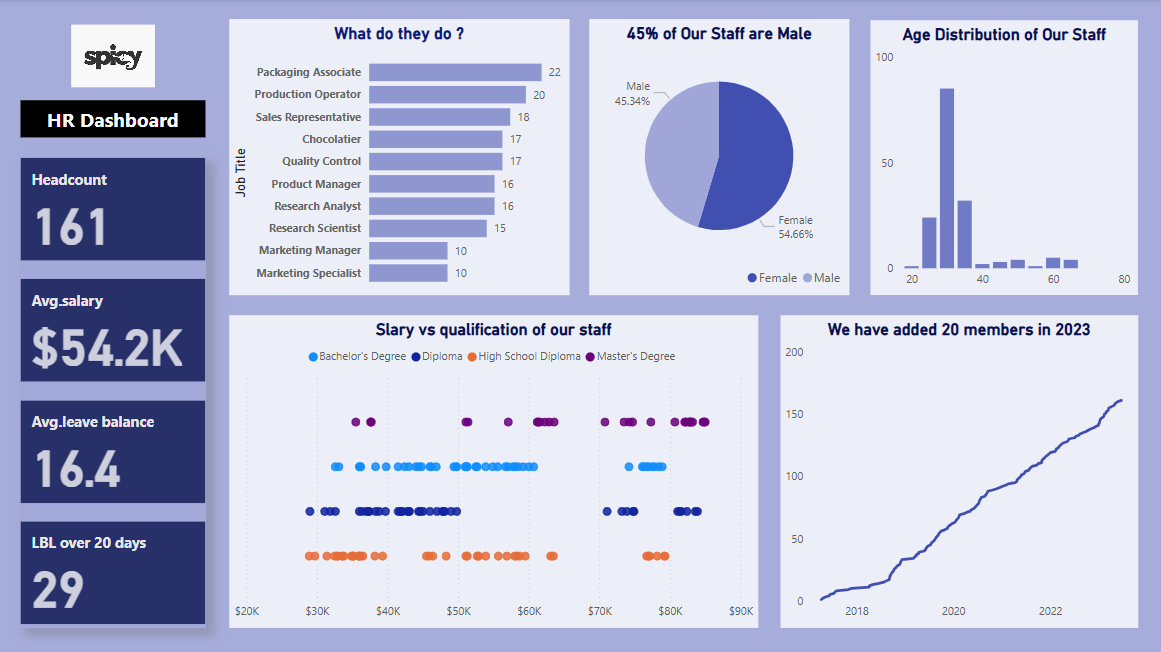

The page's visual inventory and layout, read from the dashboard file:
{"tool":"powerbi","page":{"name":"Page 9","canvas":[1280,720],"ordinal":8},"visuals":[{"type":"cardVisual","fields":{"Data":["staff.Headcount","staff.Avg.salary","staff.Avg.leave balance","staff.LBL over 20 days"]},"box":[24.7,174.3,203.1,516],"z":0},{"type":"clusteredBarChart","title":"What do they do ?","fields":{"Category":["staff.Job Title"],"Y":["staff.Headcount"]},"box":[253.9,22,373.2,303.3],"z":1000},{"type":"pieChart","title":"45% of Our Staff are Male","fields":{"Category":["staff.Gender"],"Y":["staff.Headcount"]},"box":[649.1,22,285.4,303.3],"z":2000},{"type":"columnChart","title":"Age Distribution of Our Staff","fields":{"Category":["staff.Age (bins)"],"Y":["staff.Headcount"]},"box":[957.8,23.3,293.7,301.9],"z":3000},{"type":"scatterChart","title":"Slary vs qualification of our staff","fields":{"X":["staff.Salary"],"Series":["Qual.Qualification"],"Y":["Qual.Qualification ID"]},"box":[253.9,347.2,580.4,343.1],"z":4000},{"type":"lineChart","title":"We have added 20 members in 2023","fields":{"Y":["staff.Cumulative Headcount"],"Category":["staff.Date of Join"]},"box":[859,347.2,392.5,343.1],"z":5000},{"type":"image","box":[75.5,23.3,101.5,78.2],"z":5001},{"type":"shape","box":[24.7,111.1,203.1,41.2],"z":5002}]}

Visuals, with their boxes in screenshot pixels (x1, y1, x2, y2), scaled from the page's 1280x720 canvas onto the 1161x652 screenshot:
cardVisual - staff.Headcount x staff.Avg.salary: box(22, 158, 207, 625)
"What do they do ?" clusteredBarChart: box(230, 20, 569, 295)
"45% of Our Staff are Male" pieChart: box(589, 20, 848, 295)
"Age Distribution of Our Staff" columnChart: box(869, 21, 1135, 294)
"Slary vs qualification of our staff" scatterChart: box(230, 314, 757, 625)
"We have added 20 members in 2023" lineChart: box(779, 314, 1135, 625)
image: box(68, 21, 161, 92)
shape: box(22, 101, 207, 138)
